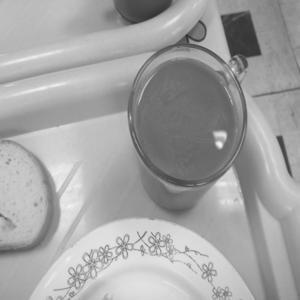coffee: (106, 34, 268, 213)
